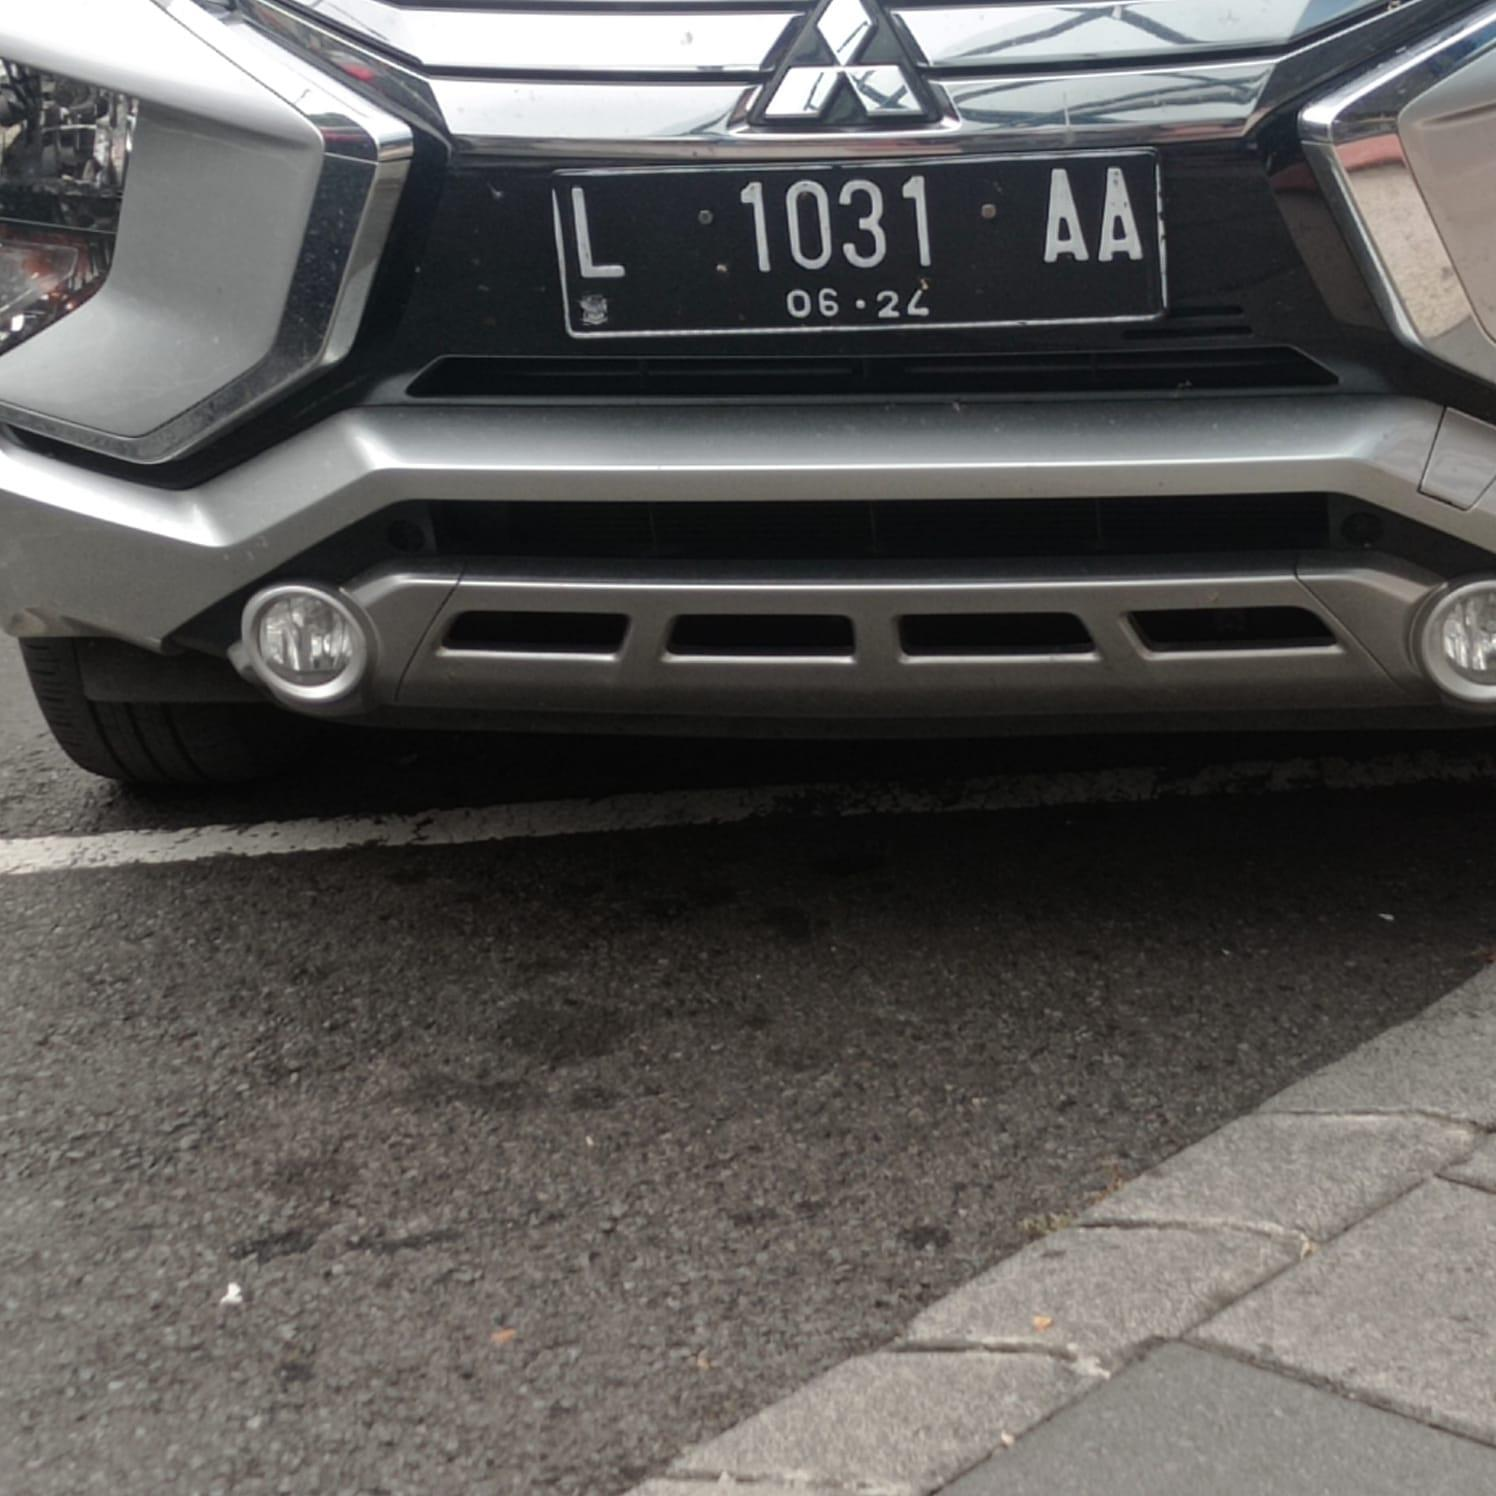plat: (552, 152, 1166, 338)
